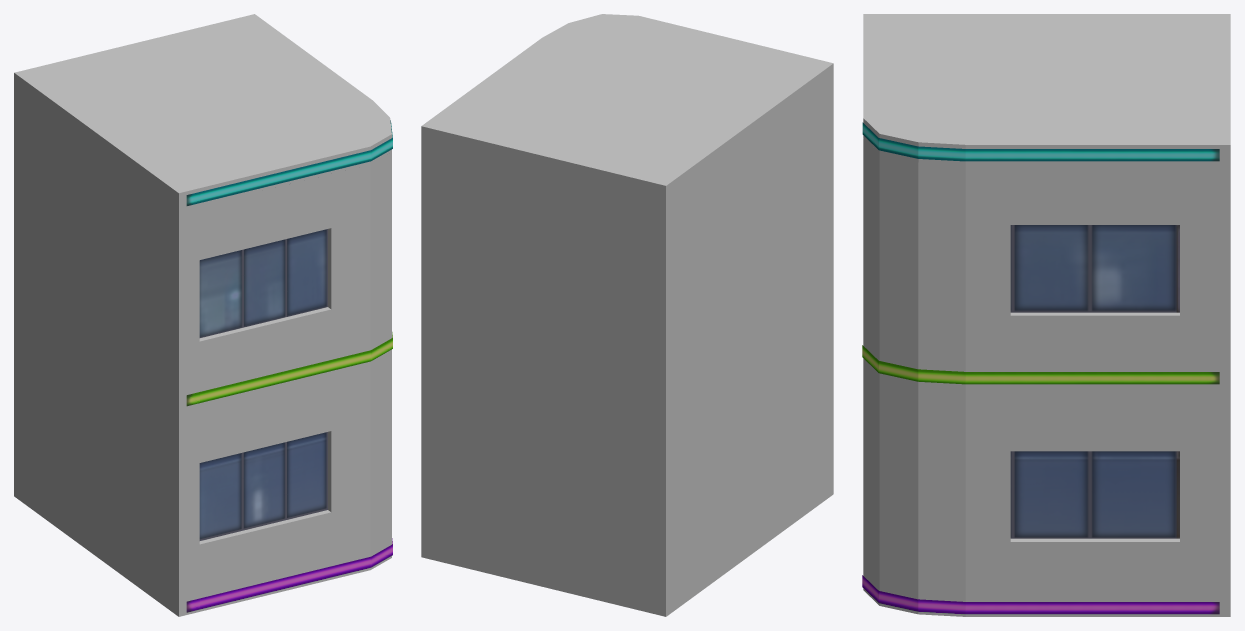
Rendered from bldg_mall_10_d01.fbx.
3 renders of one model, left to right at view 1: azimuth 30°, elevation 25°; view 2: azimuth 150°, elevation 25°; view 3: azimuth 270°, elevation 25°, orthographic. The views are drawn at different scales.
Parts seen in each view (by area): view 1: bldg_mall_10_d01; view 2: bldg_mall_10_d01; view 3: bldg_mall_10_d01.
Part boxes in pixels (x1,y1,x2,y2): bldg_mall_10_d01: (14, 14, 392, 616); bldg_mall_10_d01: (421, 14, 833, 616); bldg_mall_10_d01: (862, 14, 1230, 616).
Size of the model in its own units: 3.6 by 6.03 by 4.26.
